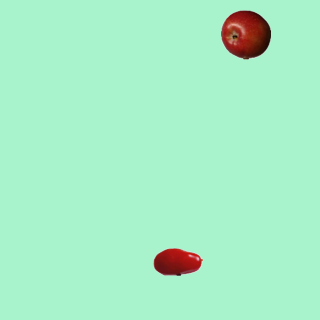Apple Braeburn: (220, 9, 270, 59)
Tomato 2: (152, 236, 202, 286)
